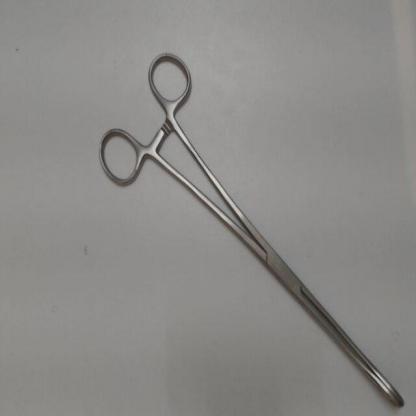Sponge Forceps: (88, 44, 412, 414)
